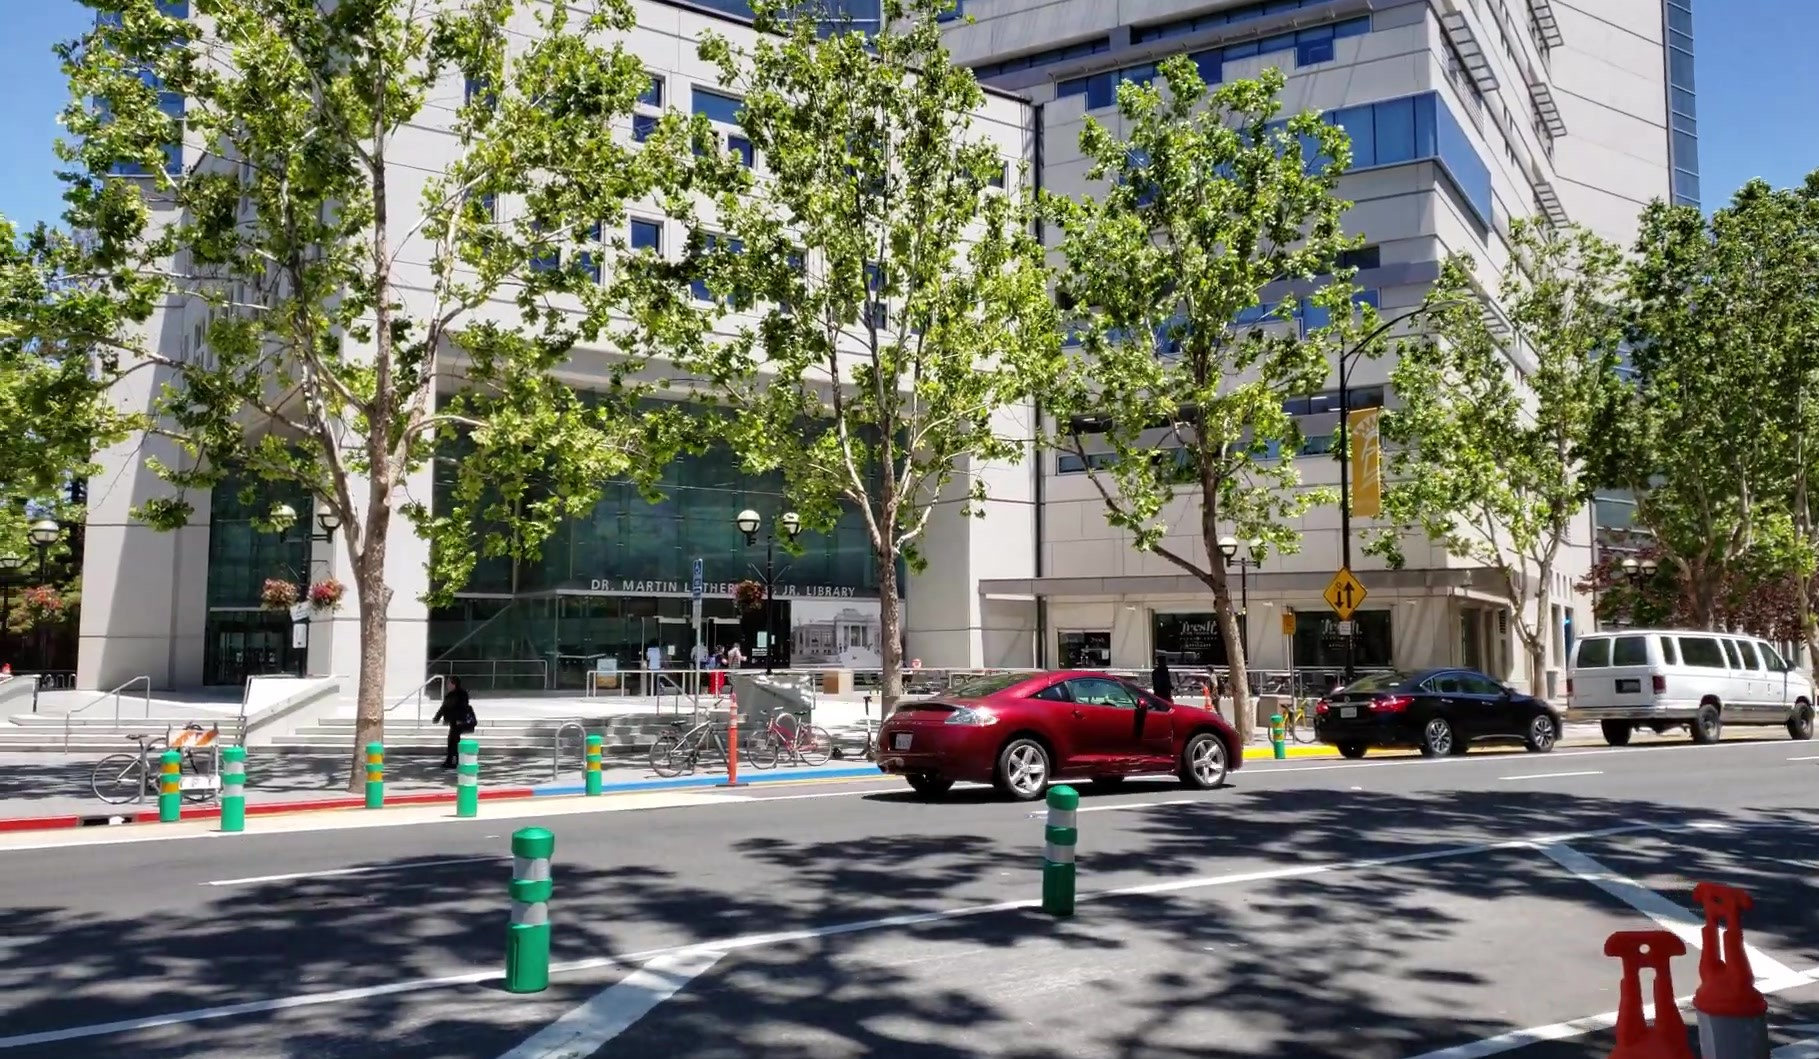vehicle: (869, 669, 1247, 794), (1568, 632, 1814, 744), (1312, 672, 1564, 751)
